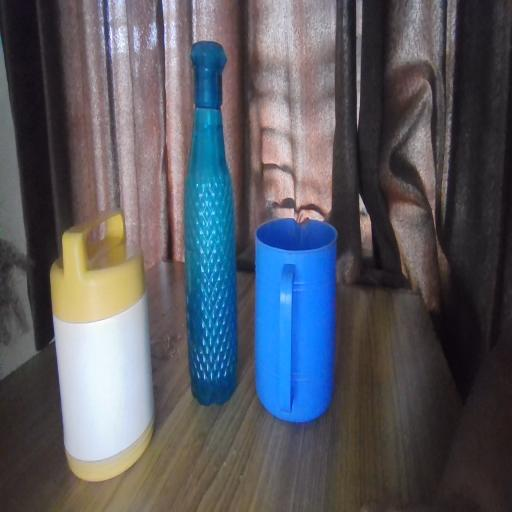Bottle: (175, 28, 255, 398)
